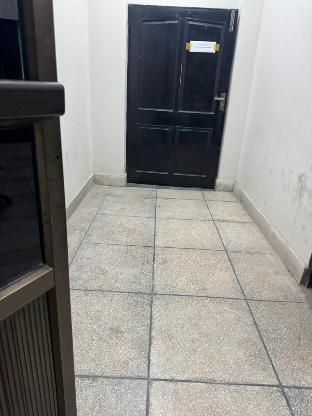door: (124, 0, 236, 194)
